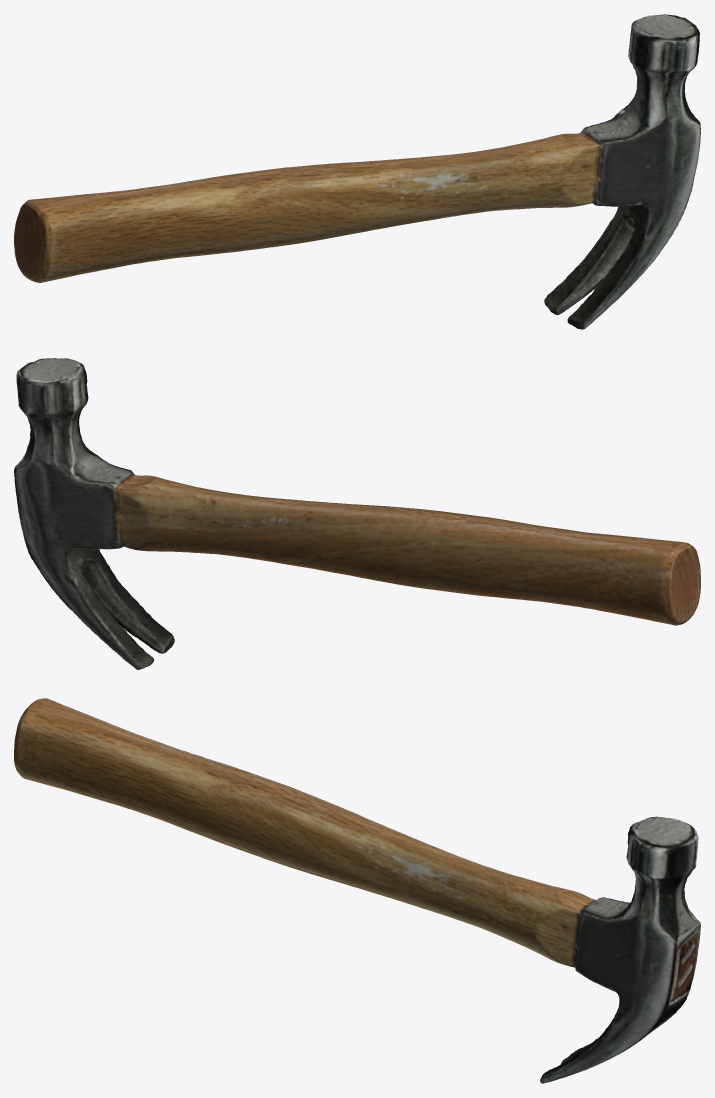
File: textured_reoriented.obj
3 renders of one model, top to bottom at view 1: azimuth 30°, elevation 25°; view 2: azimuth 150°, elevation 25°; view 3: azimuth 330°, elevation 25°, orthographic.
Bounding box in the file's own units: 0.3342 × 0.1282 × 0.033.
1 material, 1 textured.
